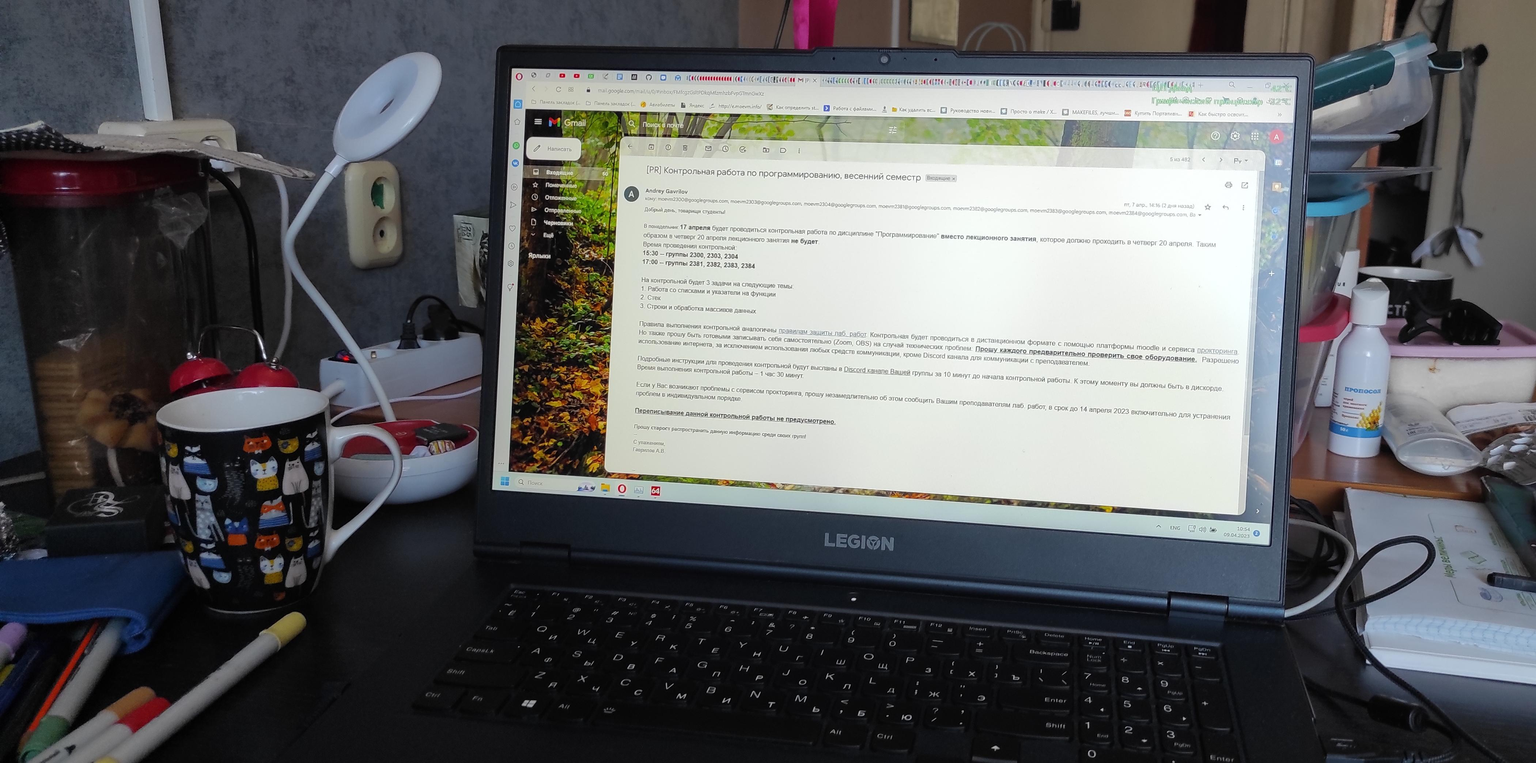monitor: (472, 35, 1323, 634)
